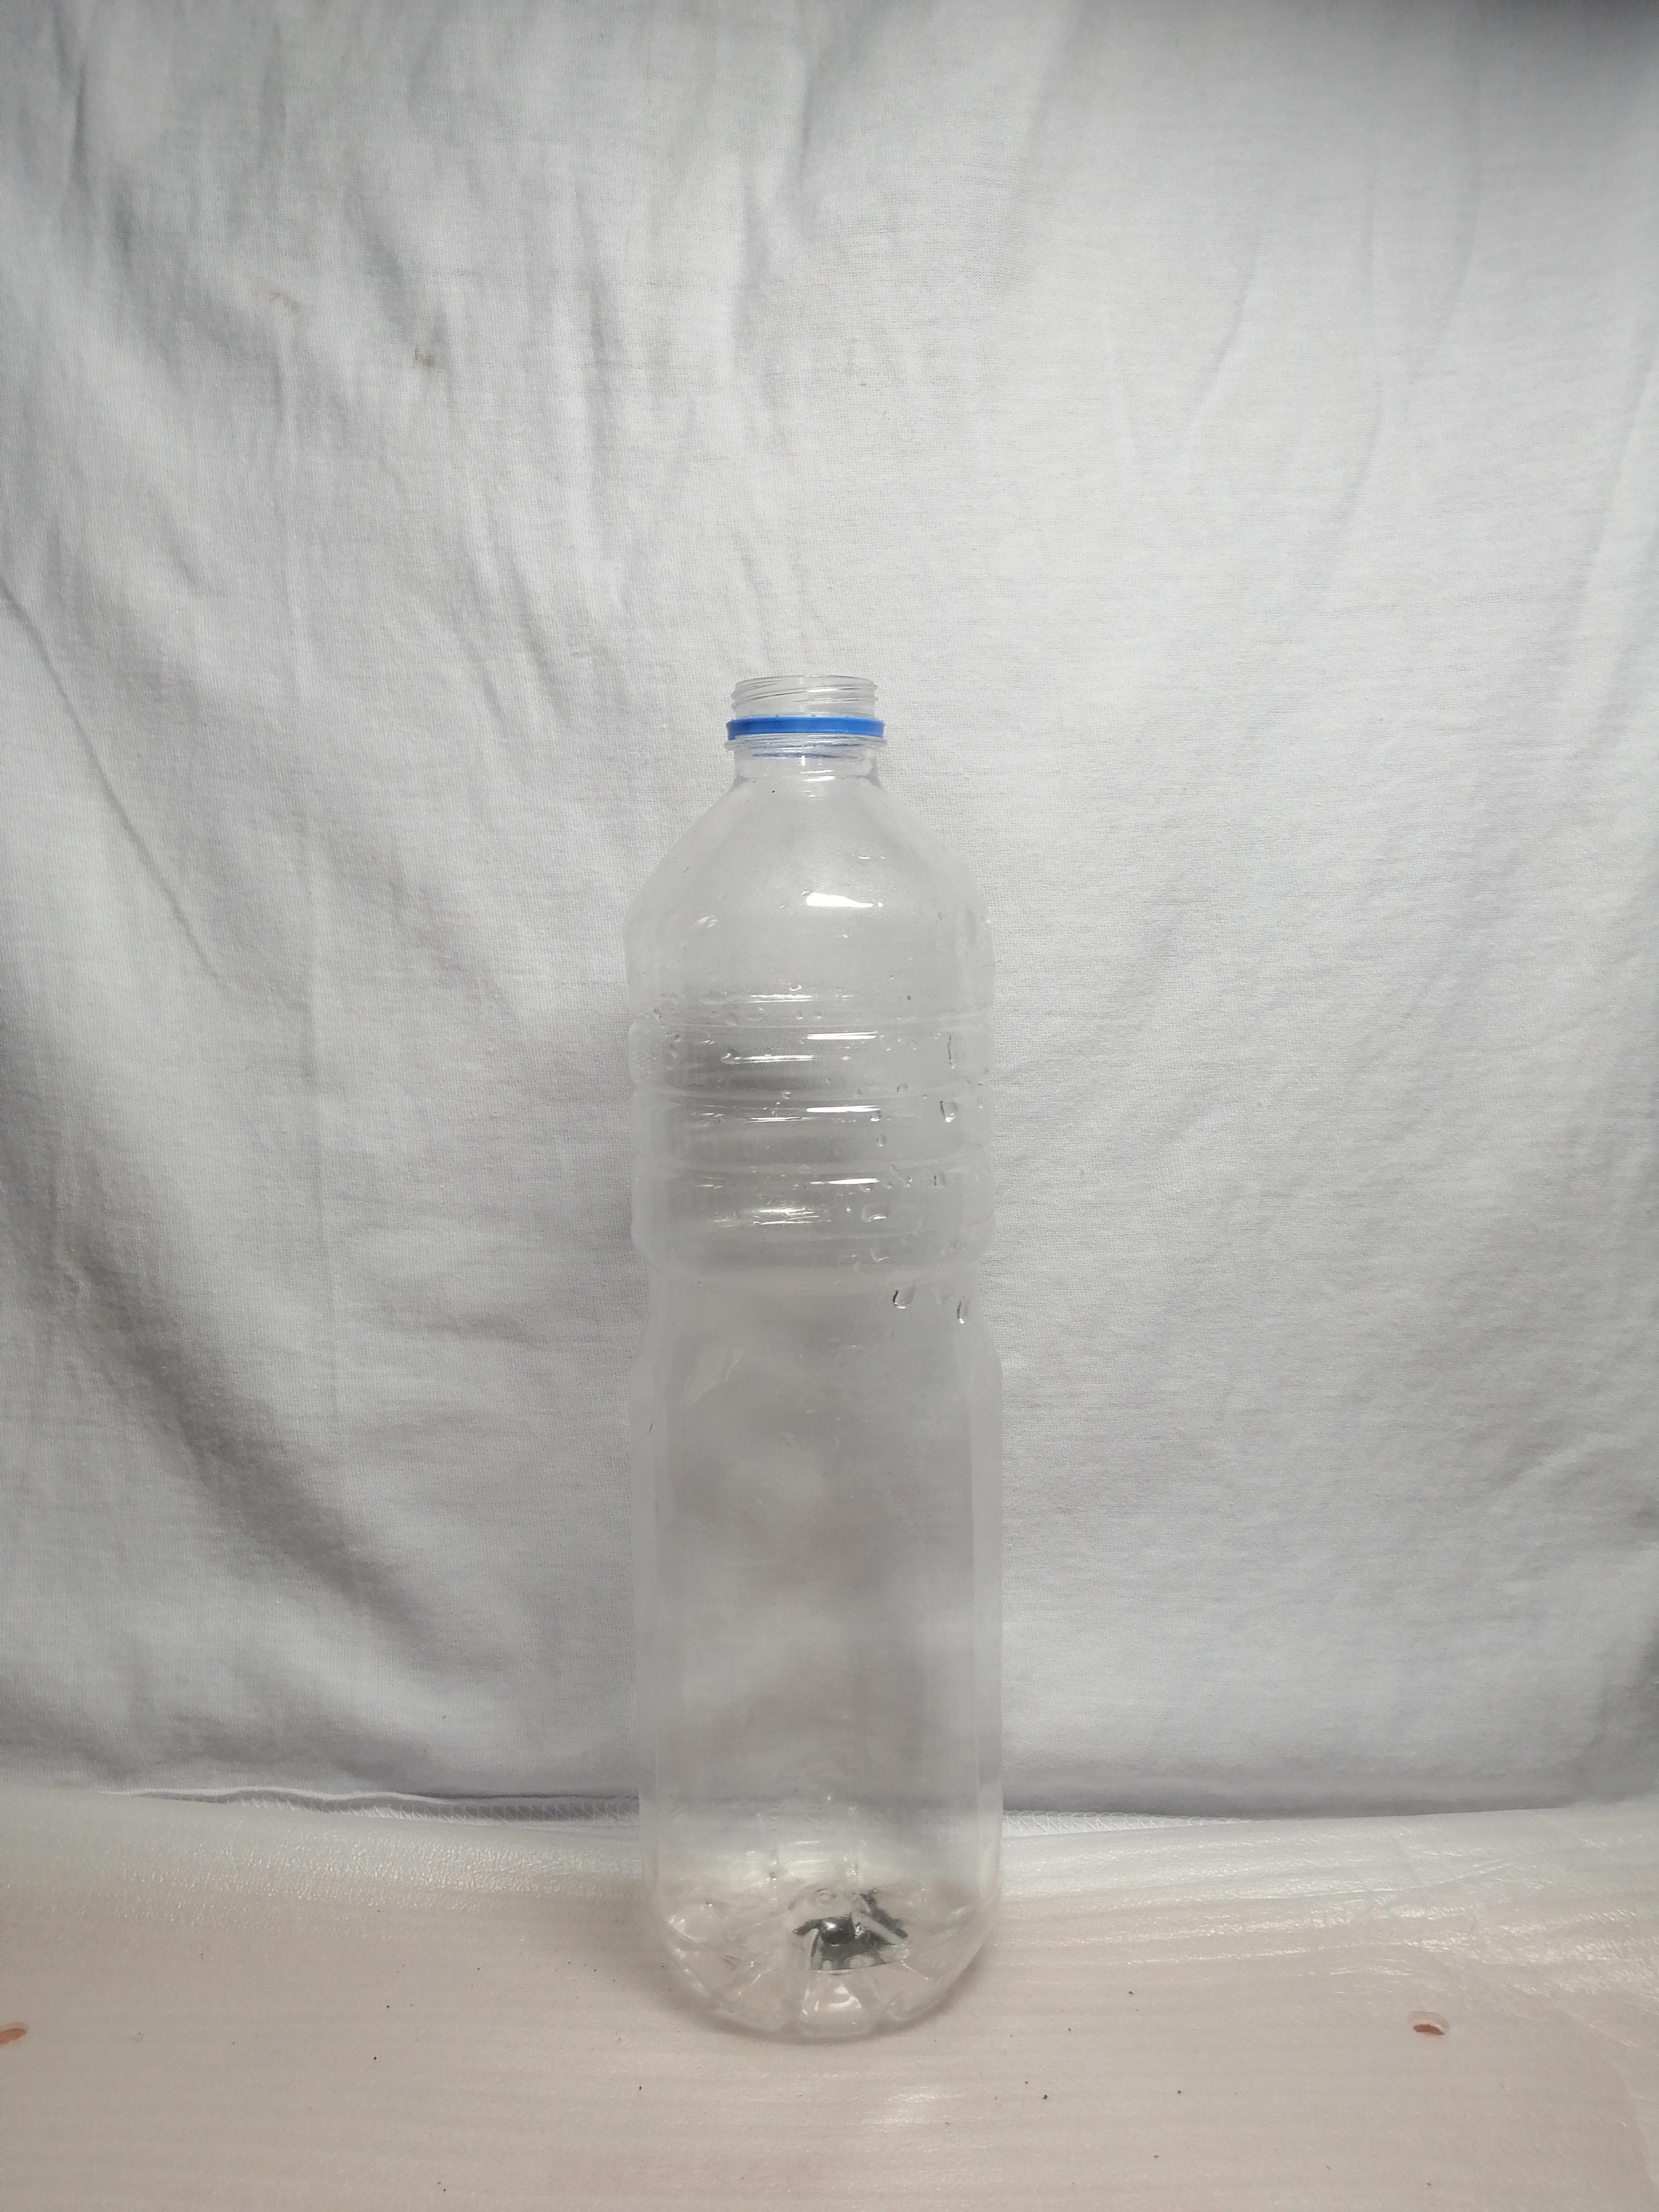plastic-bottle: (581, 629, 1027, 2064)
